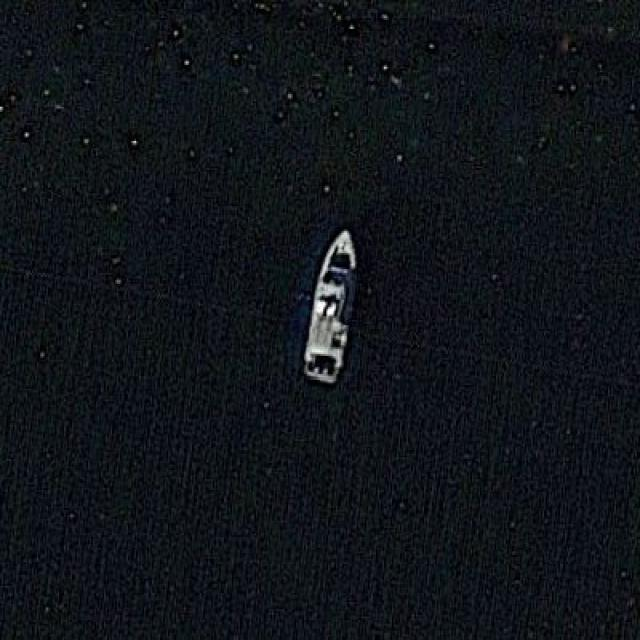boat: (301, 228, 363, 380)
